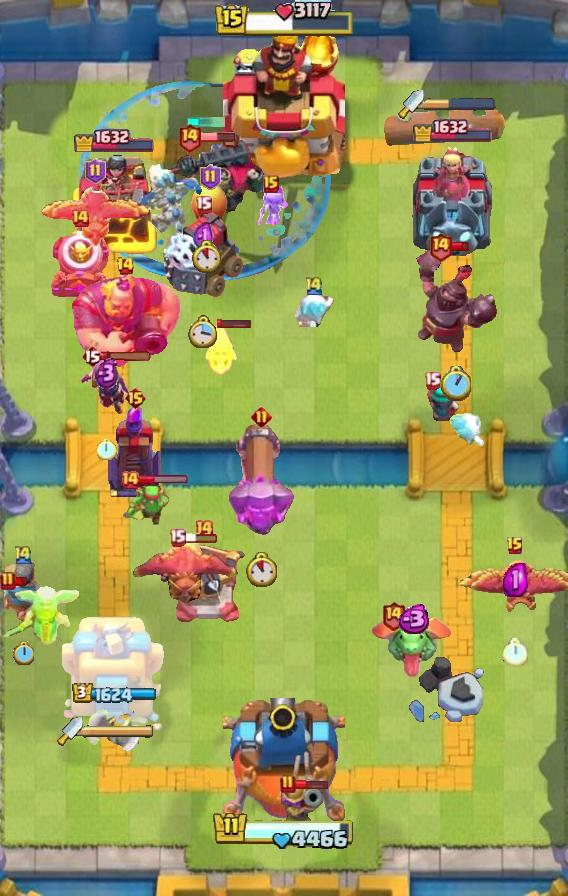bar: (62, 611, 166, 731), (409, 142, 497, 256)
bat: (291, 293, 337, 327), (448, 411, 486, 449)
bat-evolution: (204, 323, 240, 377)
bomb-tower: (281, 780, 323, 848)
clock: (212, 810, 356, 852), (213, 0, 355, 40)
electro-spirit: (393, 604, 430, 634), (504, 563, 529, 597), (95, 357, 119, 389), (193, 221, 215, 253)
electro-wizard: (370, 616, 454, 678)
elixir: (247, 553, 278, 588), (441, 366, 471, 401), (188, 316, 218, 349), (192, 239, 220, 272), (502, 638, 528, 667), (14, 641, 35, 665), (97, 438, 117, 460)
emote: (101, 350, 153, 361), (138, 474, 189, 485), (200, 131, 236, 143), (183, 532, 219, 544), (295, 778, 330, 790), (217, 318, 252, 329), (450, 241, 469, 252), (11, 577, 28, 588)
firecracker: (0, 561, 48, 622)
furnace: (227, 420, 295, 540)
giant-snowball: (123, 480, 171, 526)
goblin: (253, 185, 289, 225)
goblin-cage: (48, 231, 112, 301)
golden-knight: (40, 183, 150, 249)
golem: (160, 209, 246, 299)
hog: (191, 179, 229, 227)
ice-spirit: (186, 117, 226, 127)
ice-spirit-evolution-symbol: (105, 403, 165, 499)
inferno-tower: (148, 138, 264, 224)
king-tower: (223, 27, 345, 181), (223, 698, 345, 826)
king-tower-bar: (424, 97, 496, 111), (83, 724, 155, 738)
lava-pup: (160, 544, 248, 626)
lightning: (69, 273, 183, 369)
mini-pekka: (136, 160, 206, 244)
minion: (380, 103, 508, 149)
mother-witch: (130, 536, 246, 608), (456, 558, 568, 628)
pad_0: (79, 79, 333, 281)
poison: (0, 578, 88, 652)
queen-tower: (69, 154, 159, 256)
rascal-girl: (79, 357, 135, 421)
royal-giant: (86, 696, 142, 754)
royal-guardian: (409, 242, 501, 356)
selected: (72, 126, 155, 152), (412, 116, 494, 142), (71, 682, 156, 704)
text: (428, 231, 453, 262), (178, 123, 202, 154), (382, 601, 406, 631), (125, 386, 148, 410), (85, 158, 106, 184), (199, 164, 220, 190), (81, 344, 103, 368), (252, 406, 273, 427), (304, 275, 324, 296), (13, 544, 33, 565), (70, 208, 90, 228), (116, 256, 136, 276), (120, 470, 140, 490), (194, 519, 214, 539), (506, 536, 524, 556), (195, 195, 213, 214), (169, 528, 186, 547), (0, 571, 16, 591), (280, 774, 296, 794), (423, 371, 440, 389), (263, 175, 279, 193)
witch: (424, 381, 460, 423)
